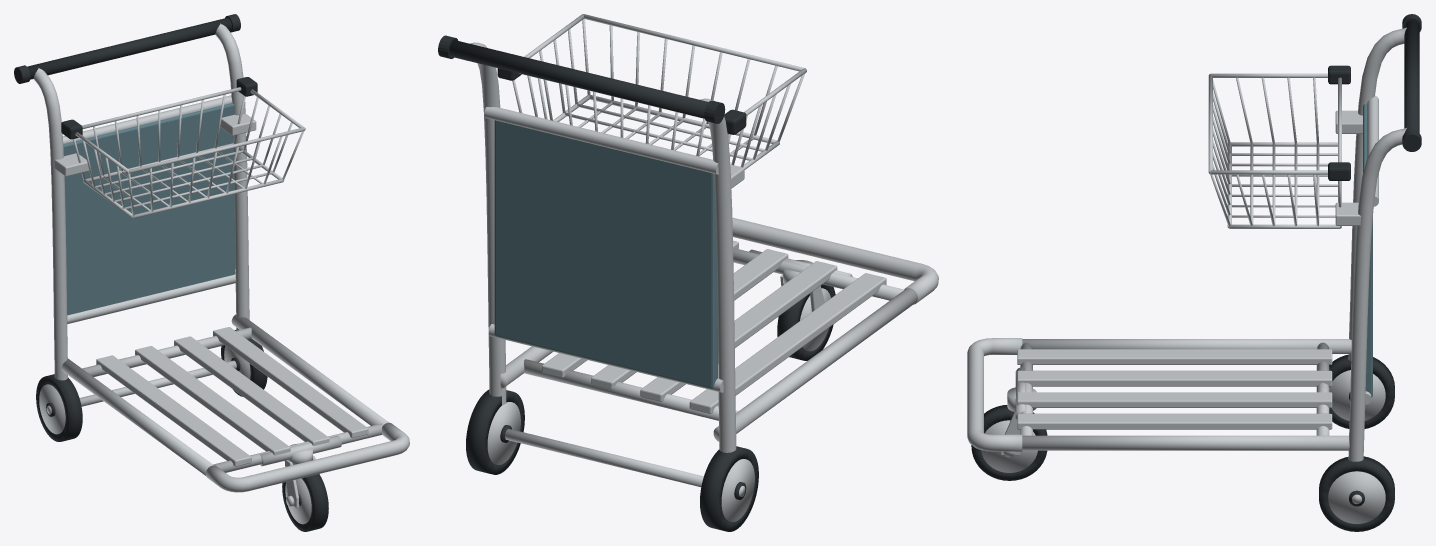
The model's file is full.fbx.
The picture shows the model from 3 angles, left to right: view 1: azimuth 30°, elevation 25°; view 2: azimuth 150°, elevation 25°; view 3: azimuth 270°, elevation 25°; orthographic projection. The views are drawn at different scales.
Visible parts, largest first — view 1: Blank rectangular advertising panel, Upright post -1, Rounded front U bumper, Upright post 1, Long deck slat 0, Long deck slat 3, Long deck slat 2, Long deck slat 1, Wide push brake bar, Longitudinal deck frame -1, Longitudinal deck frame 1, Lower panel support (+14 smaller); view 2: Blank rectangular advertising panel, Upright post -1, Wide push brake bar, Long deck slat 0, Rounded front U bumper, Longitudinal deck frame -1, Upright post 1, Long deck slat 1, Upper panel support, Rear continuous axle, Rear left tyre, Rear right tyre (+13 smaller); view 3: Upright post 1, Long deck slat 3, Long deck slat 1, Longitudinal deck frame 1, Long deck slat 0, Long deck slat 2, Longitudinal deck frame -1, Rounded front U bumper, Upright post -1, Rear right tyre, Rear right solid hub, Wide push brake bar (+11 smaller).
Part boxes in pixels (x1,y1,x2,y2): Blank rectangular advertising panel: [63, 103, 235, 315]; Upright post -1: [33, 68, 67, 380]; Rounded front U bumper: [206, 422, 409, 492]; Upright post 1: [215, 23, 249, 330]; Long deck slat 0: [96, 355, 251, 466]; Long deck slat 3: [213, 327, 368, 438]; Long deck slat 2: [174, 336, 329, 445]; Long deck slat 1: [135, 346, 290, 455]; Wide push brake bar: [27, 17, 231, 79]; Longitudinal deck frame -1: [61, 358, 213, 475]; Longitudinal deck frame 1: [231, 314, 388, 425]; Lower panel support: [67, 272, 235, 323]; Blank rectangular advertising panel: [494, 120, 717, 388]; Upright post -1: [700, 98, 736, 452]; Wide push brake bar: [449, 40, 708, 118]; Long deck slat 0: [689, 273, 886, 413]; Rounded front U bumper: [732, 217, 938, 304]; Longitudinal deck frame -1: [713, 288, 917, 441]; Upright post 1: [466, 42, 506, 405]; Long deck slat 1: [640, 261, 837, 401]; Upper panel support: [484, 107, 718, 174]; Rear continuous axle: [505, 428, 745, 496]; Rear left tyre: [700, 446, 758, 531]; Rear right tyre: [466, 389, 524, 474]; Upright post 1: [1348, 128, 1406, 461]; Long deck slat 3: [1017, 413, 1332, 429]; Long deck slat 1: [1017, 370, 1332, 386]; Longitudinal deck frame 1: [1022, 435, 1349, 450]; Long deck slat 0: [1017, 349, 1332, 364]; Long deck slat 2: [1017, 392, 1332, 407]; Longitudinal deck frame -1: [1022, 339, 1351, 353]; Rounded front U bumper: [967, 338, 1022, 451]; Upright post -1: [1348, 27, 1406, 360]; Rear right tyre: [1319, 456, 1394, 531]; Rear right solid hub: [1328, 471, 1385, 523]; Wide push brake bar: [1404, 20, 1419, 132].
Size of the model in its own units: 67.3 by 105 by 107.
